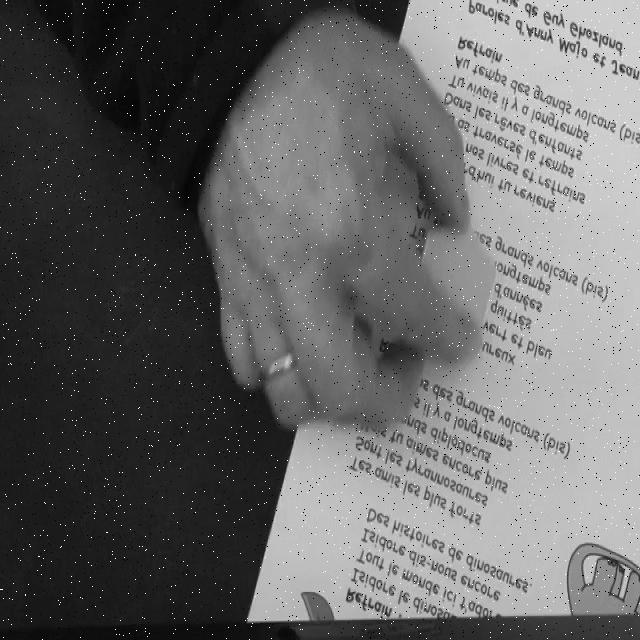hexagon: (410, 222, 499, 338)
